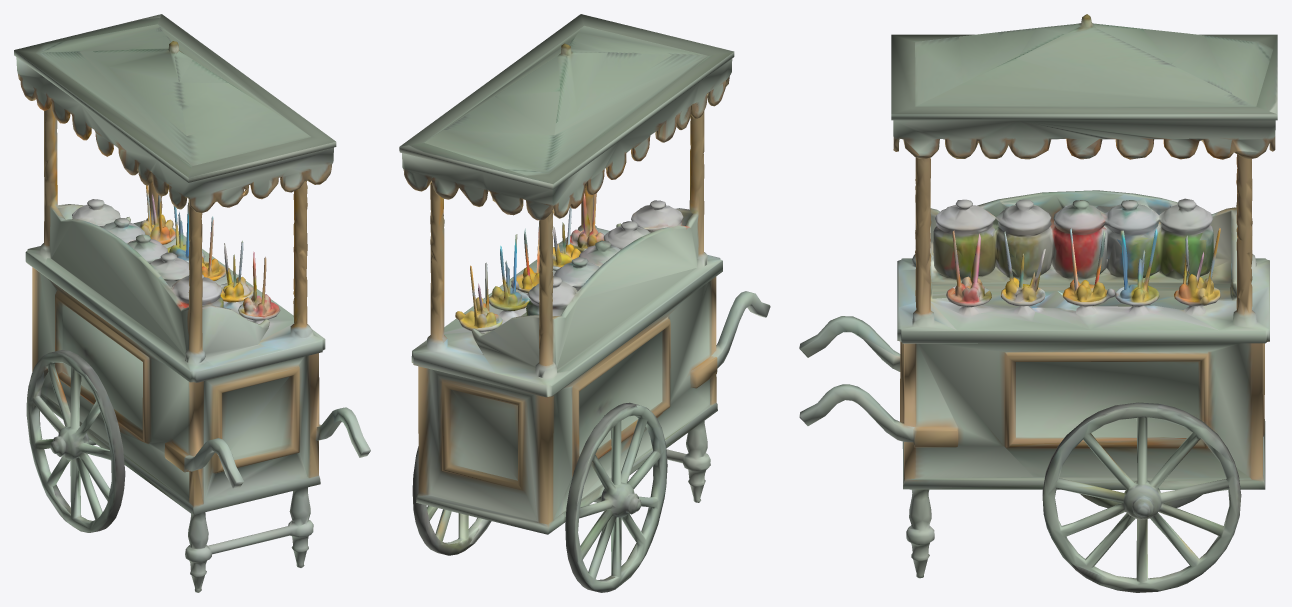
The model's file is Dulces.obj.
The picture shows the model from 3 angles, left to right: view 1: azimuth 30°, elevation 25°; view 2: azimuth 150°, elevation 25°; view 3: azimuth 270°, elevation 25°; orthographic projection. The views are drawn at different scales.
Visible parts, largest first — view 1: tripo_node_ef28a3cd-376b-499e-ab91-25bc38dc2e32; view 2: tripo_node_ef28a3cd-376b-499e-ab91-25bc38dc2e32; view 3: tripo_node_ef28a3cd-376b-499e-ab91-25bc38dc2e32.
Boxes of the visible parts, x1=… form: tripo_node_ef28a3cd-376b-499e-ab91-25bc38dc2e32: x1=14, y1=14, x2=370, y2=592; tripo_node_ef28a3cd-376b-499e-ab91-25bc38dc2e32: x1=399, y1=14, x2=770, y2=592; tripo_node_ef28a3cd-376b-499e-ab91-25bc38dc2e32: x1=799, y1=14, x2=1277, y2=592.
Bounding box in the file's own units: 2.09 × 5 × 4.05.
